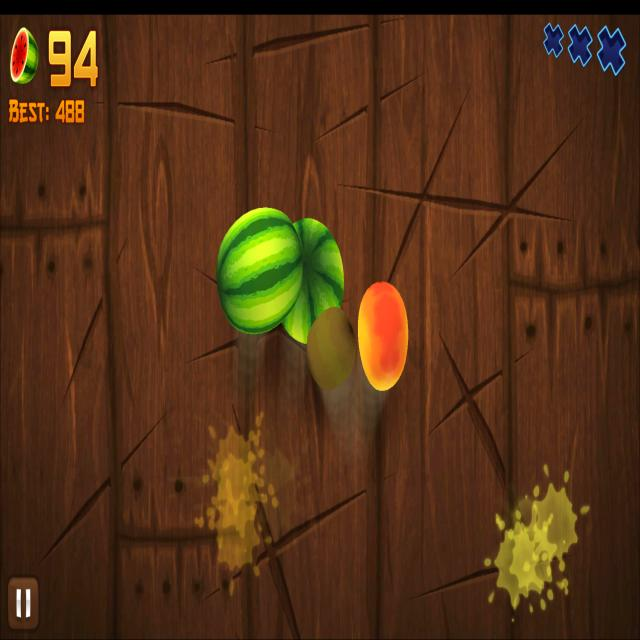fruit: (214, 206, 304, 336), (284, 217, 345, 344), (358, 279, 410, 393), (306, 305, 356, 392)
